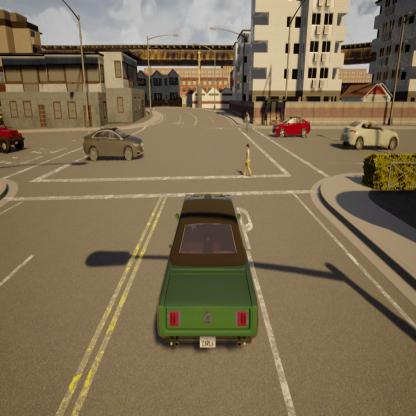Cars: (144, 185, 267, 362), (82, 121, 148, 163), (336, 117, 400, 156), (266, 109, 314, 143), (0, 113, 31, 160)
Pedestrian: (231, 132, 256, 179)
